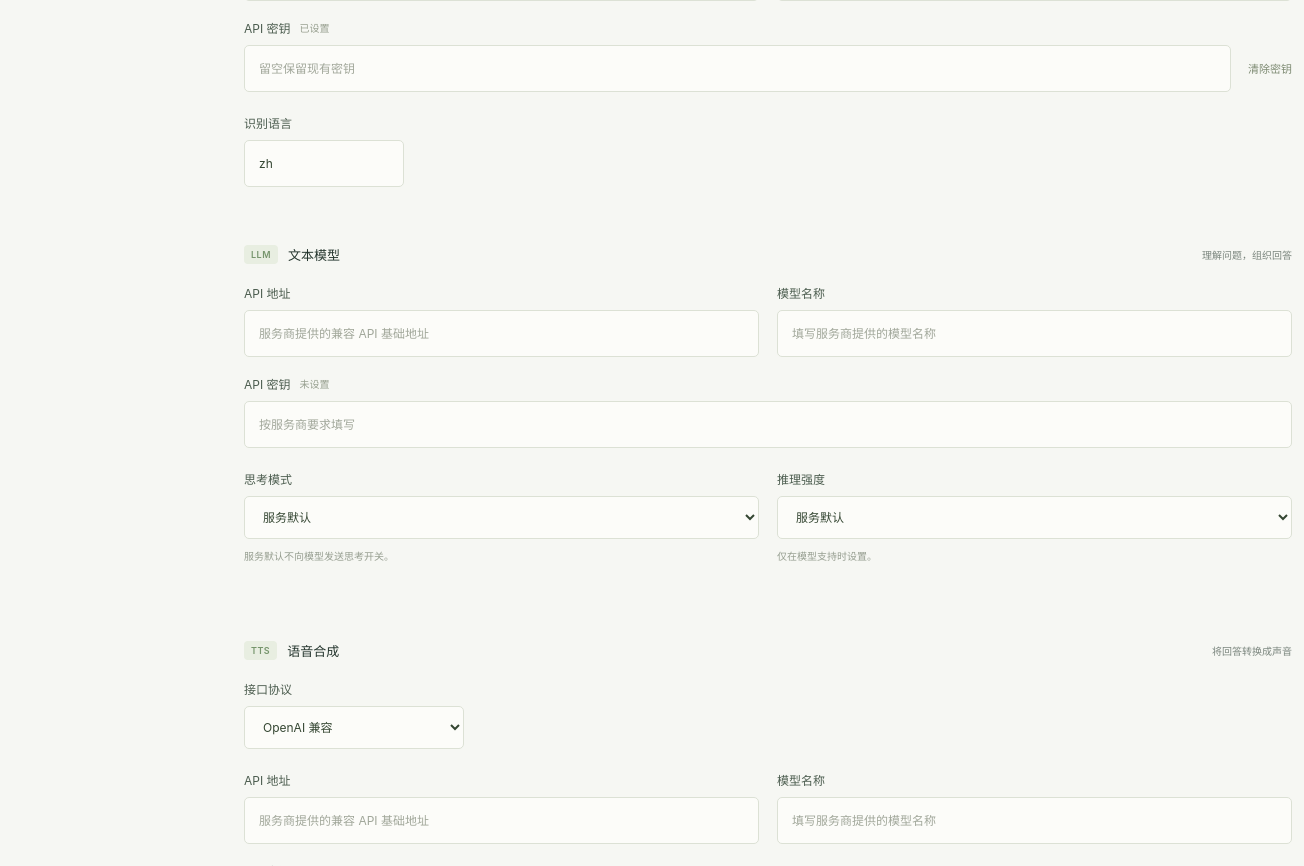
Test: 配置中的密钥处理 › 保存后清空密钥输入，保存公开返回值，不写浏览器存储
This screenshot has width=1304, height=866.
(page scrolled)
Type "new-secret" into the password field named "文本模型 API 密钥" at (768, 424), box [244,401,1292,448]
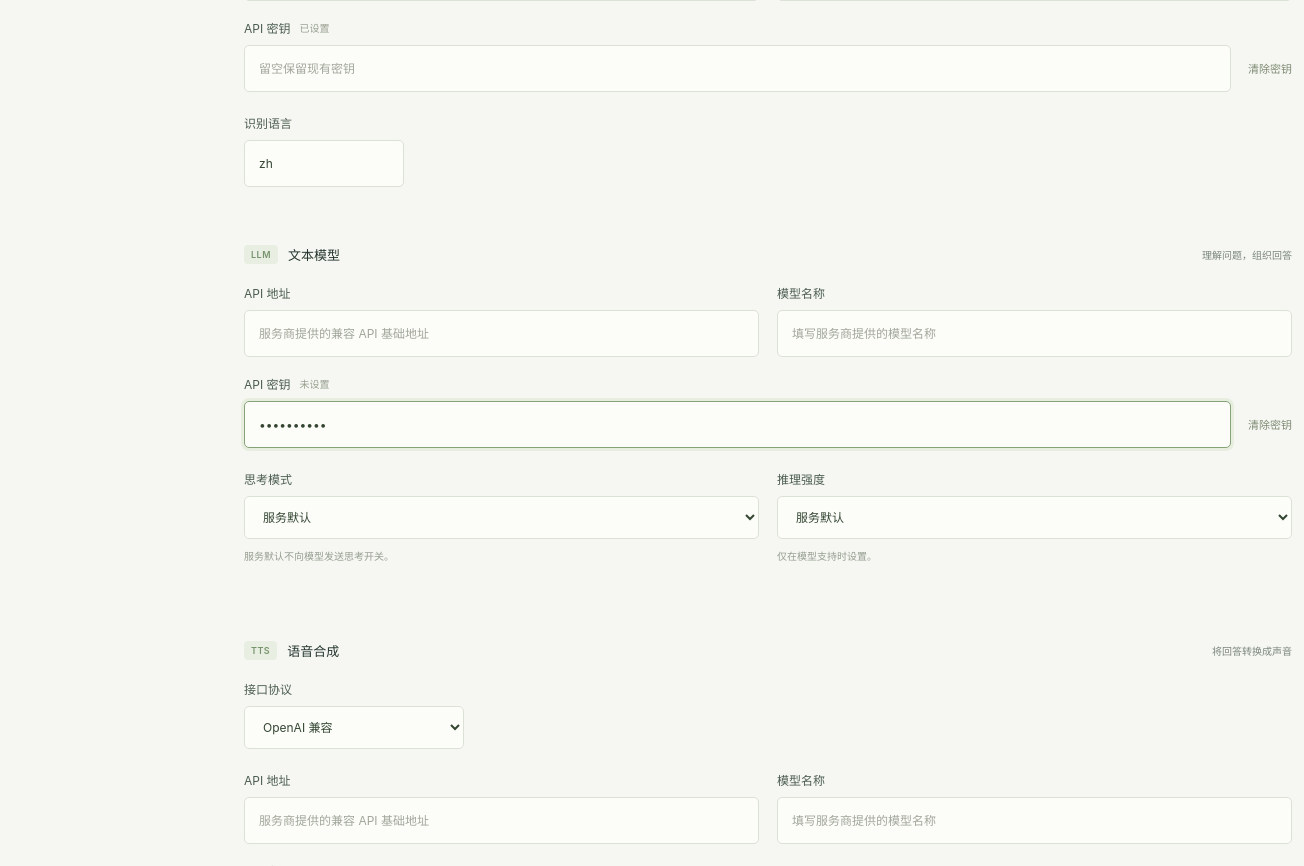
Click the button with aria-label "清除语音识别密钥" at (1270, 68), box [1248,55,1292,81]
(page scrolled)
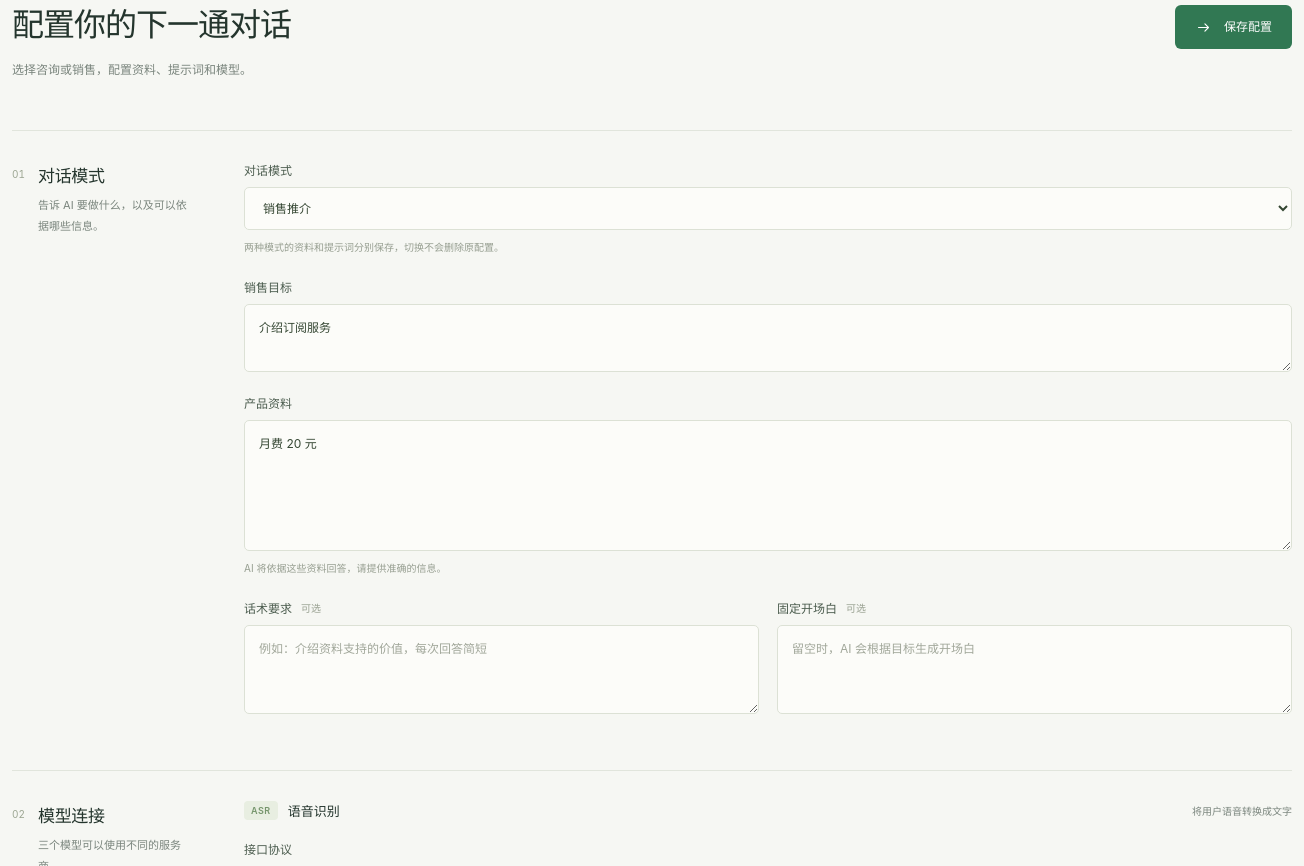
Click the button "保存配置" at (1234, 27), box [1175,5,1292,49]
(page scrolled)
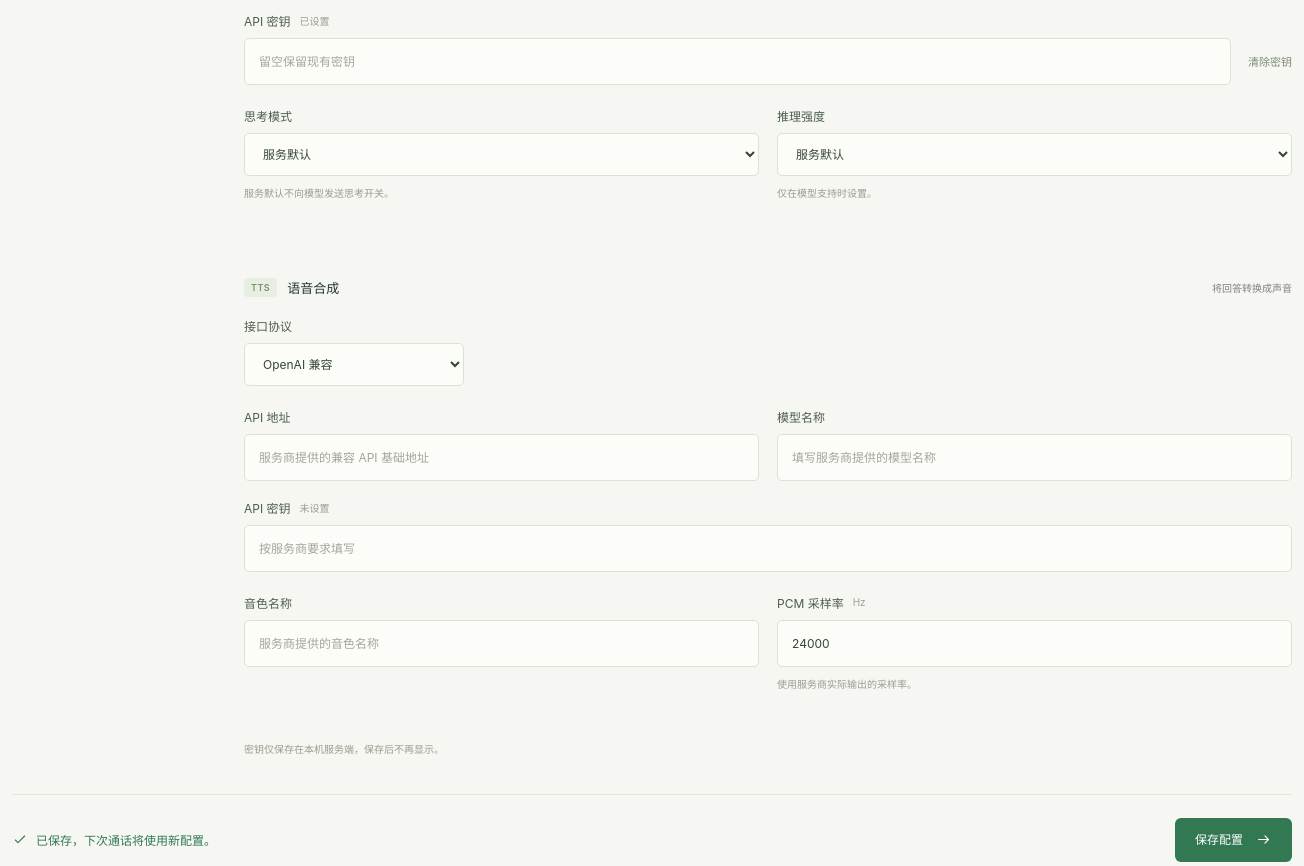
Result: the password field named "文本模型 API 密钥" is empty at [244,38,1231,85]
Result: the text "已保存，下次通话将使用新配置。" is shown at [12,831,216,848]
